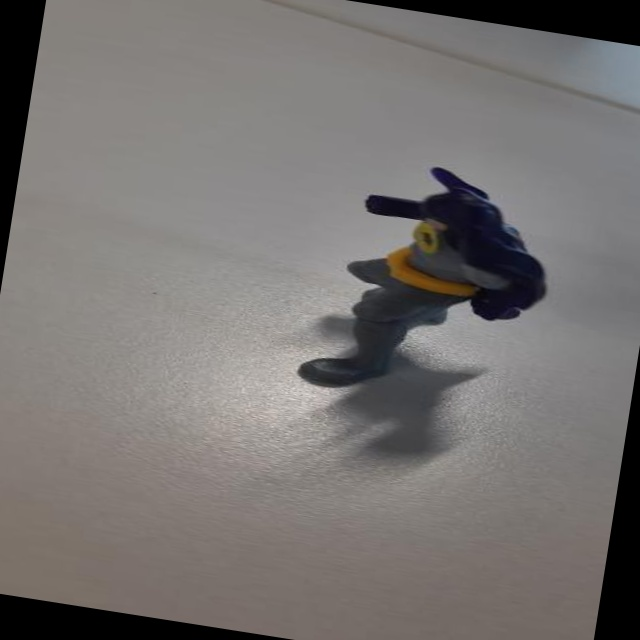Batman: (279, 145, 559, 422)
